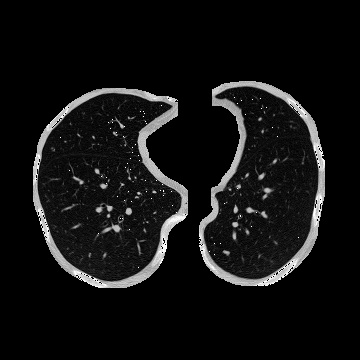PN: (224, 250, 228, 254)
